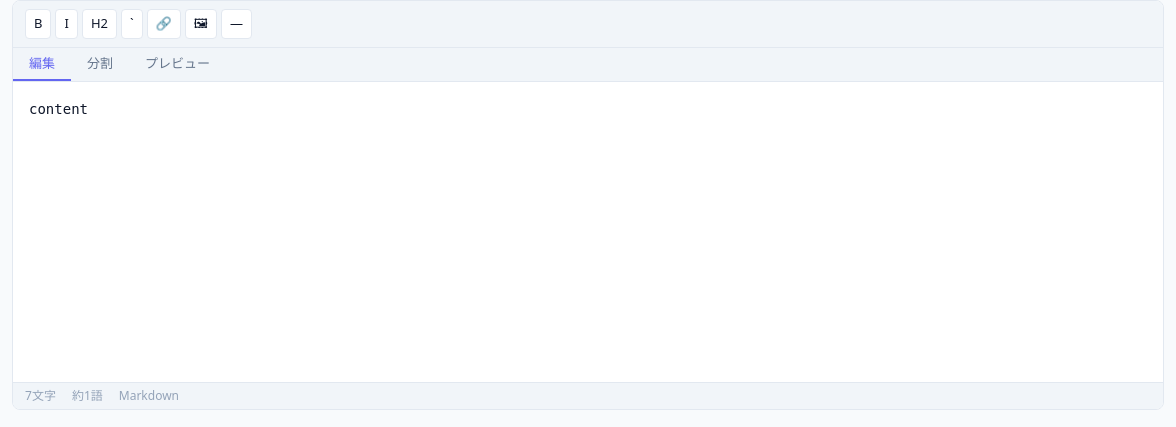
Test case: MarkdownEditor › shows both panes in split mode
Click the tab "分割" at (100,64), box [71,48,129,81]
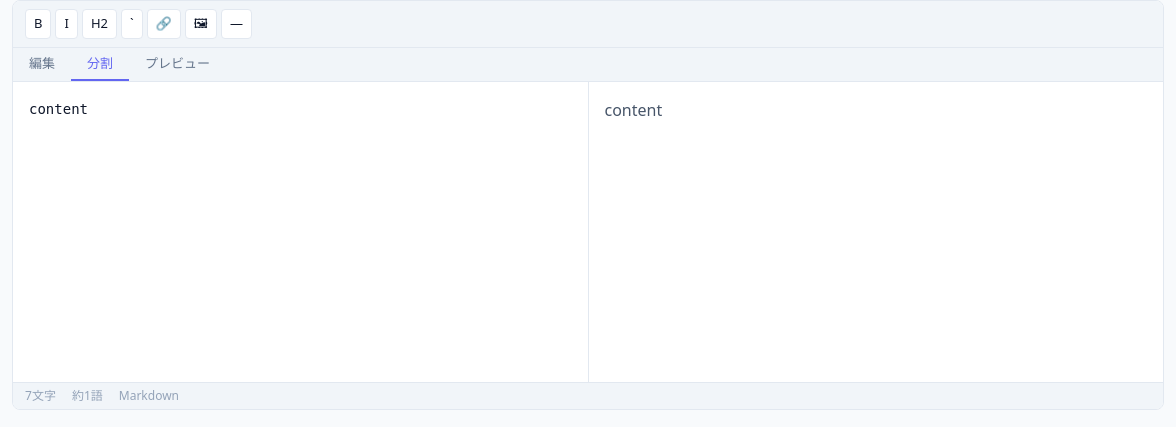
Expected: the text box is shown, [13,82,588,382]
Result: the element with test id "preview-pane" is shown at [588,82,1163,382]
